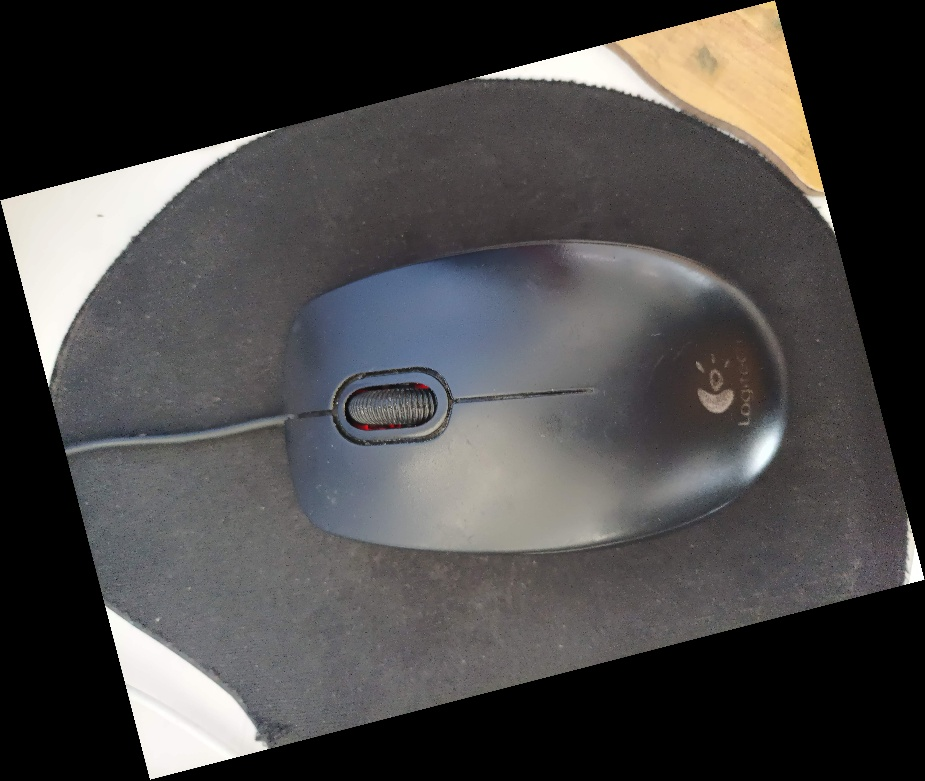mouse: (266, 227, 798, 558)
